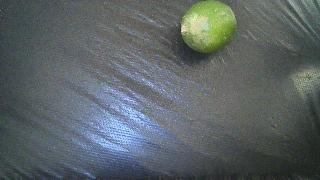DESECHO: (180, 0, 237, 53)
